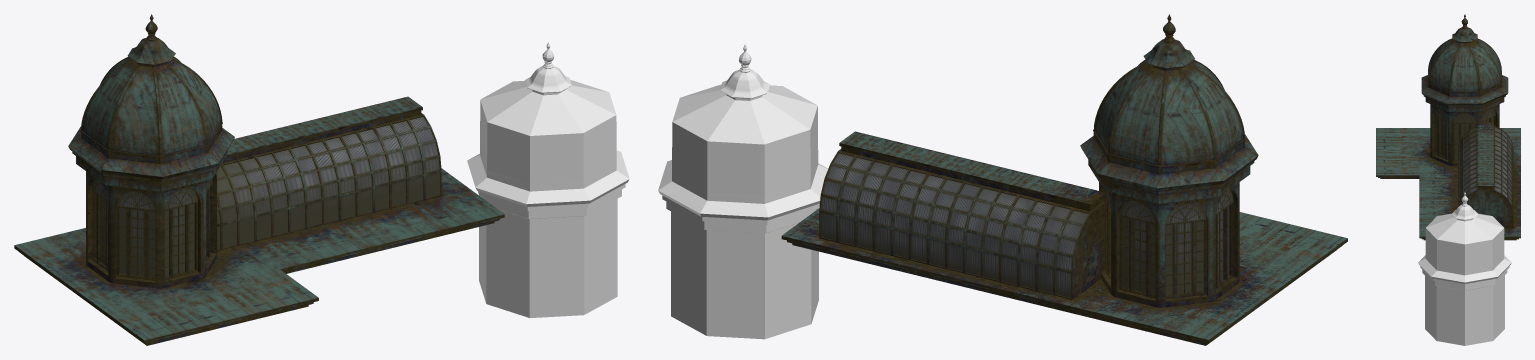
Rendered from victorian_thing.glb.
3 renders of one model, left to right at view 1: azimuth 30°, elevation 25°; view 2: azimuth 150°, elevation 25°; view 3: azimuth 270°, elevation 25°, orthographic. The views are drawn at different scales.
Visible parts, largest first — view 1: Plane.003, Plane.001, Plane.002; view 2: Plane.003, Plane.001, Plane.002; view 3: Plane.003, Plane.001.
Part boxes in pixels (bbox=[...]): Plane.003: bbox=[14, 14, 504, 345]; Plane.001: bbox=[467, 42, 629, 317]; Plane.002: bbox=[479, 90, 625, 209]; Plane.003: bbox=[781, 14, 1347, 345]; Plane.001: bbox=[658, 44, 827, 339]; Plane.002: bbox=[662, 94, 816, 223]; Plane.003: bbox=[1376, 14, 1520, 240]; Plane.001: bbox=[1418, 192, 1511, 345].
Size of the model in its own units: 5.09 by 3.25 by 2.06.
Materials: 1 (1 with a texture image).
